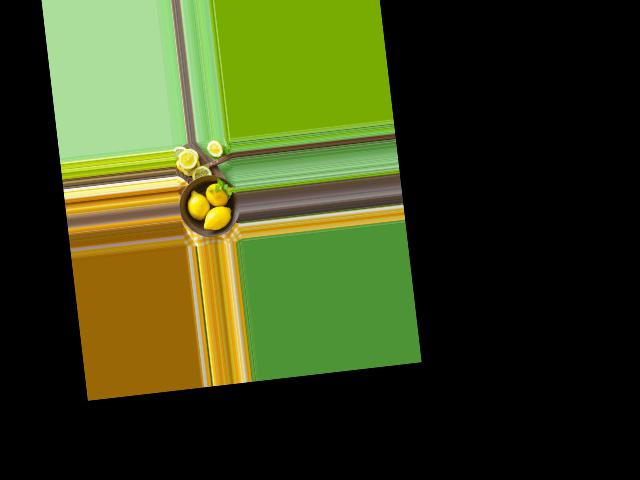lemon: (199, 201, 236, 235)
